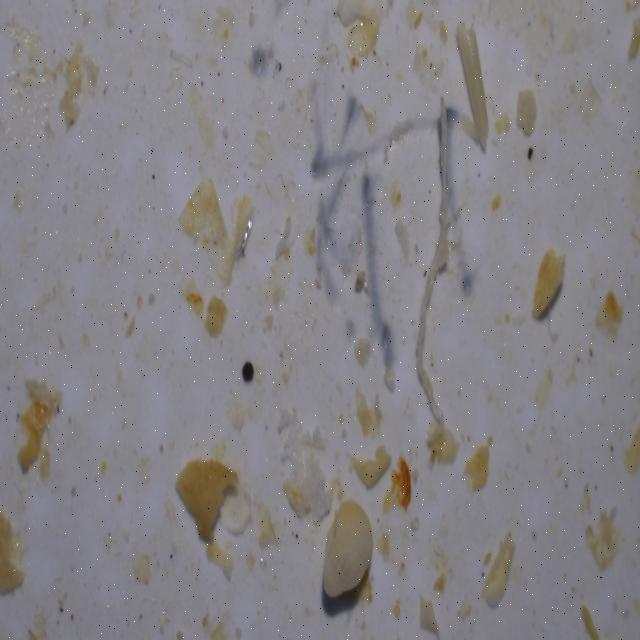fibers: (415, 96, 454, 432)
